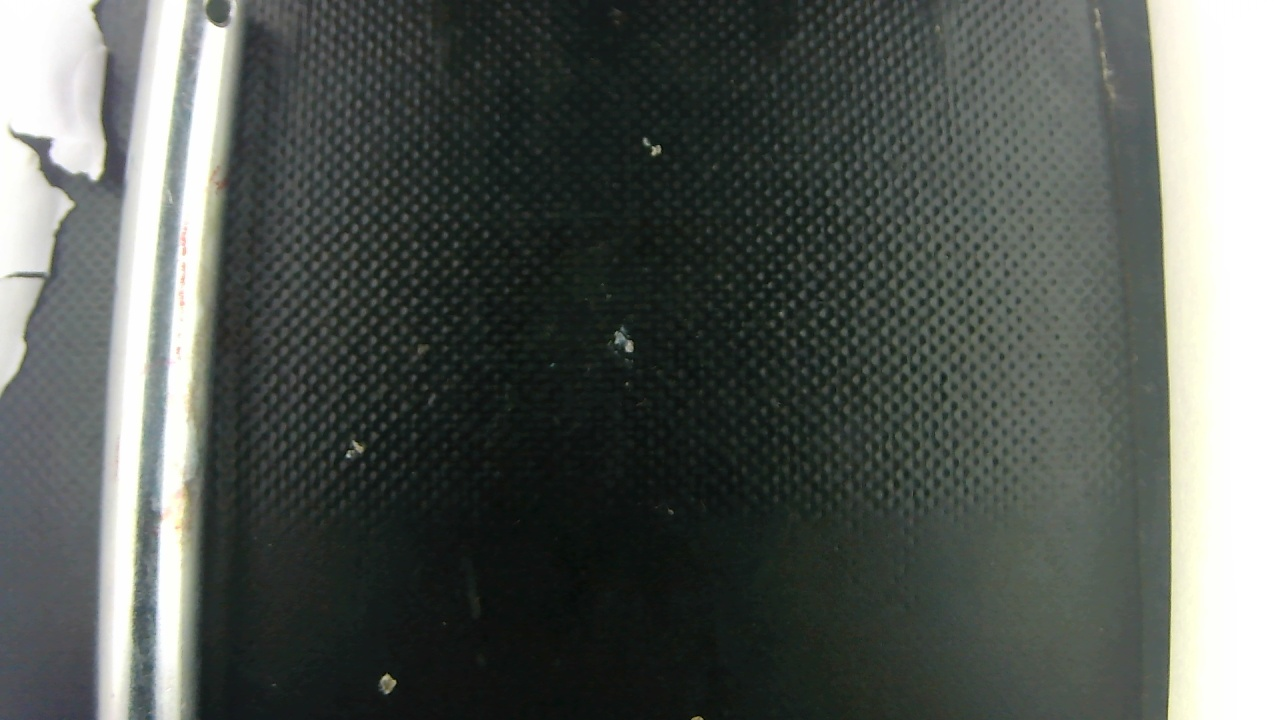black patch_pin: (158, 139, 244, 539)
